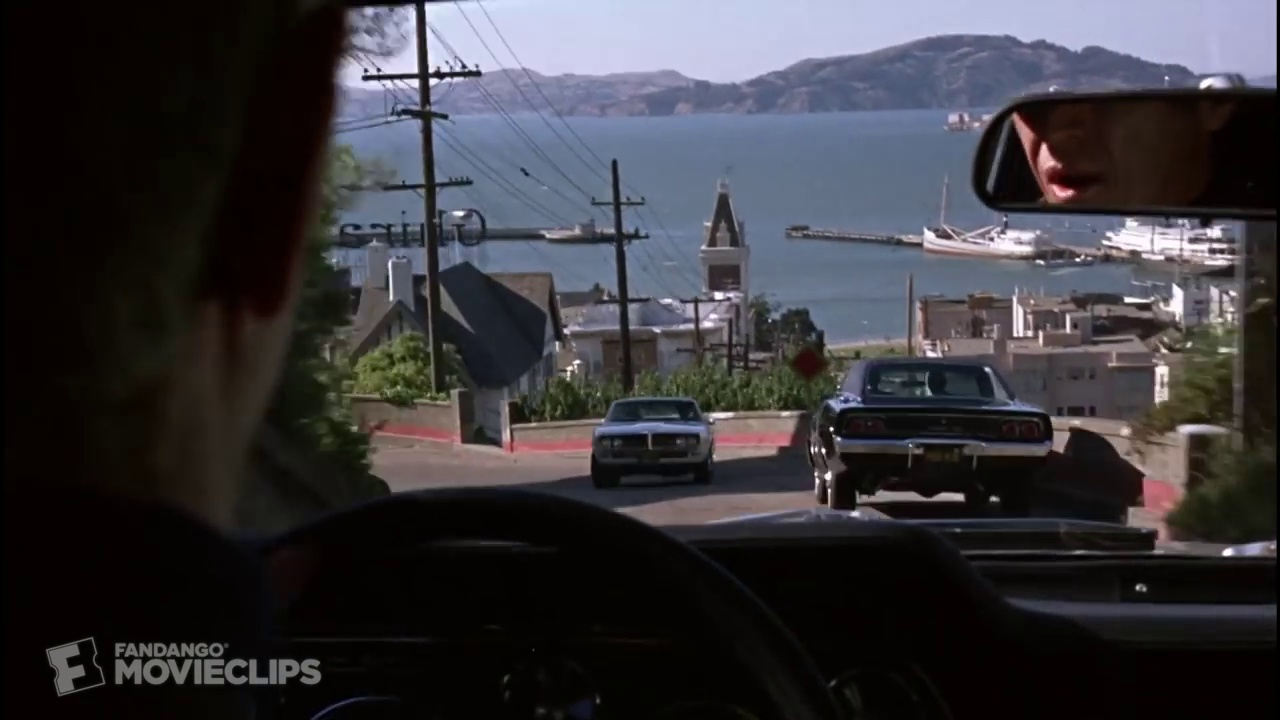boat: (915, 217, 1080, 265)
car: (284, 479, 1280, 718), (802, 347, 1060, 514), (584, 389, 721, 498)
person: (999, 92, 1238, 214)
stop sign: (780, 335, 836, 392)
